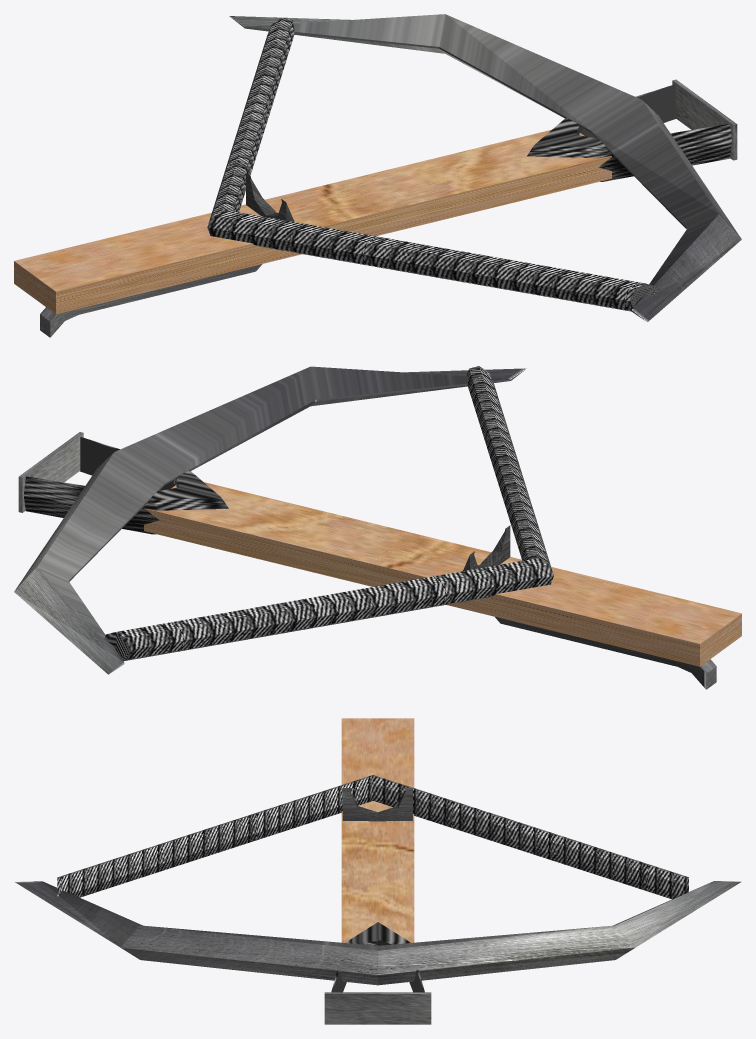
File: Crossbow28.obj
3 views of the same model, one above another, from view 1: azimuth 30°, elevation 25°; view 2: azimuth 150°, elevation 25°; view 3: azimuth 270°, elevation 25° (orthographic). The views are drawn at different scales.
Parts seen in each view (by area): view 1: Sphere.002, Sphere.001, Sphere; view 2: Sphere.002, Sphere.001, Sphere; view 3: Sphere.001, Sphere, Sphere.002.
Part boxes in pixels (x1,y1,x2,y2): Sphere.002: (14,129,611,314); Sphere.001: (40,14,741,337); Sphere: (207,17,731,311); Sphere.002: (144,482,741,666); Sphere.001: (14,366,716,689); Sphere: (23,366,553,660); Sphere.001: (14,788,741,1024); Sphere: (57,775,688,992); Sphere.002: (341,718,414,942).
Size of the model in its own units: 4.67 by 0.6142 by 5.04.
